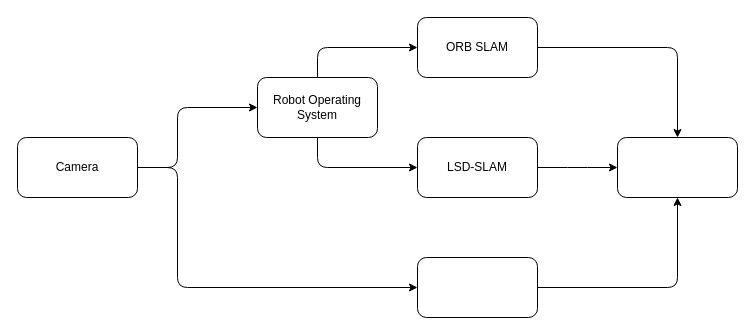
This 755x335 diagram has some shape labels left out. The shapes that lost their labels are listed below. From the top down, each one's centre as x and y in pixels, then its label:
At pixel 677 167: "Generated Map & Position".
At pixel 477 287: "DeepTAM".
